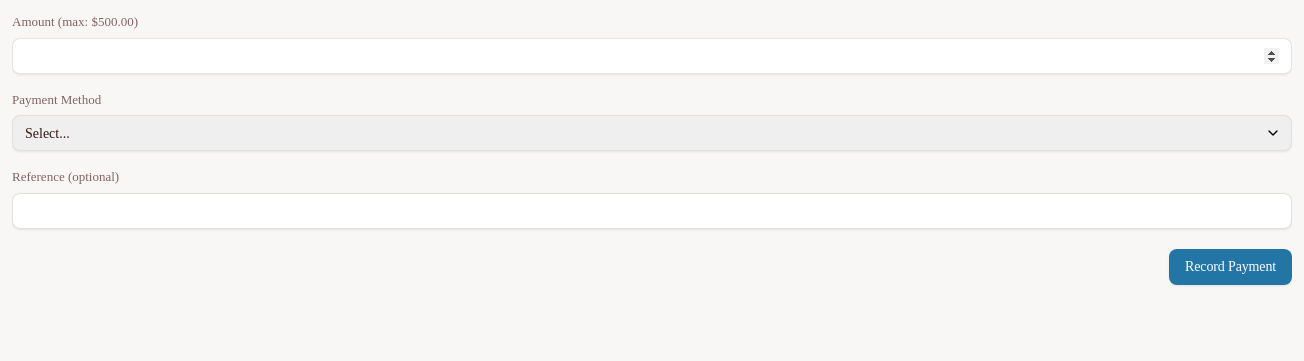
Test: PaymentForm › shows server error
Type "250" into the number field labelled "Amount (max: $500.00)".
click(652, 56); type("250")  # box [12, 38, 1292, 74]
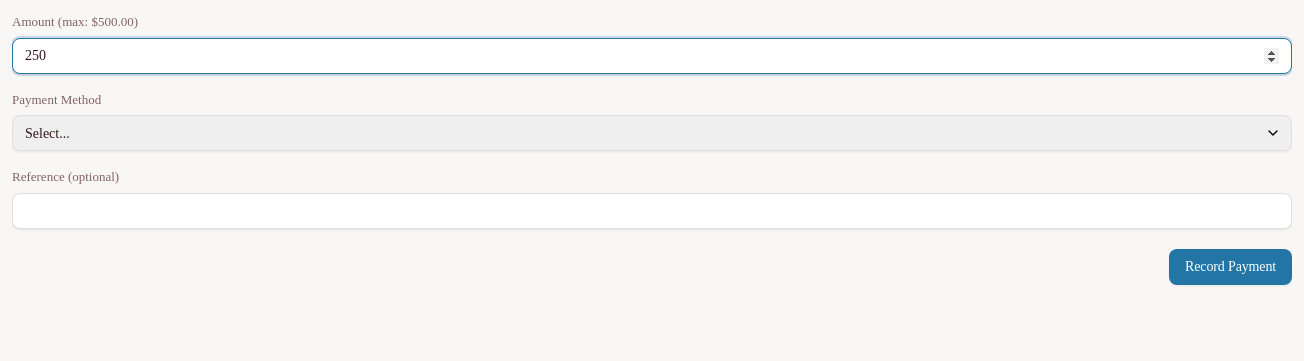
Select "Card" in the dropdown labelled "Payment Method" at (652, 133), box [12, 115, 1292, 151]
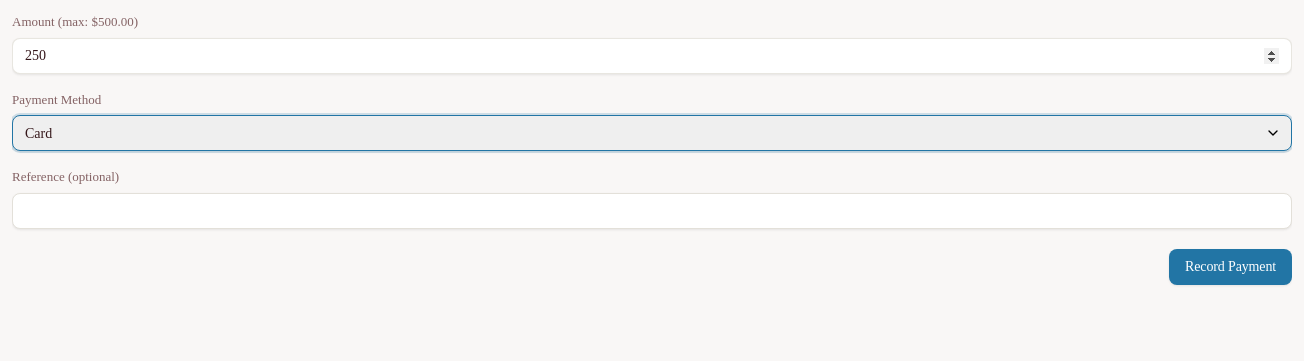
Submit the form "Record Payment"
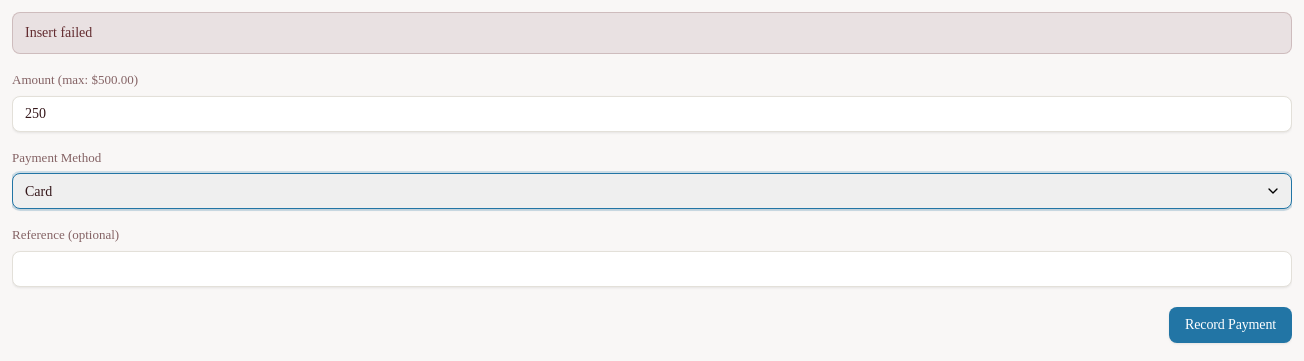
Result: the text "Insert failed" is shown at [12, 12, 1292, 54]
